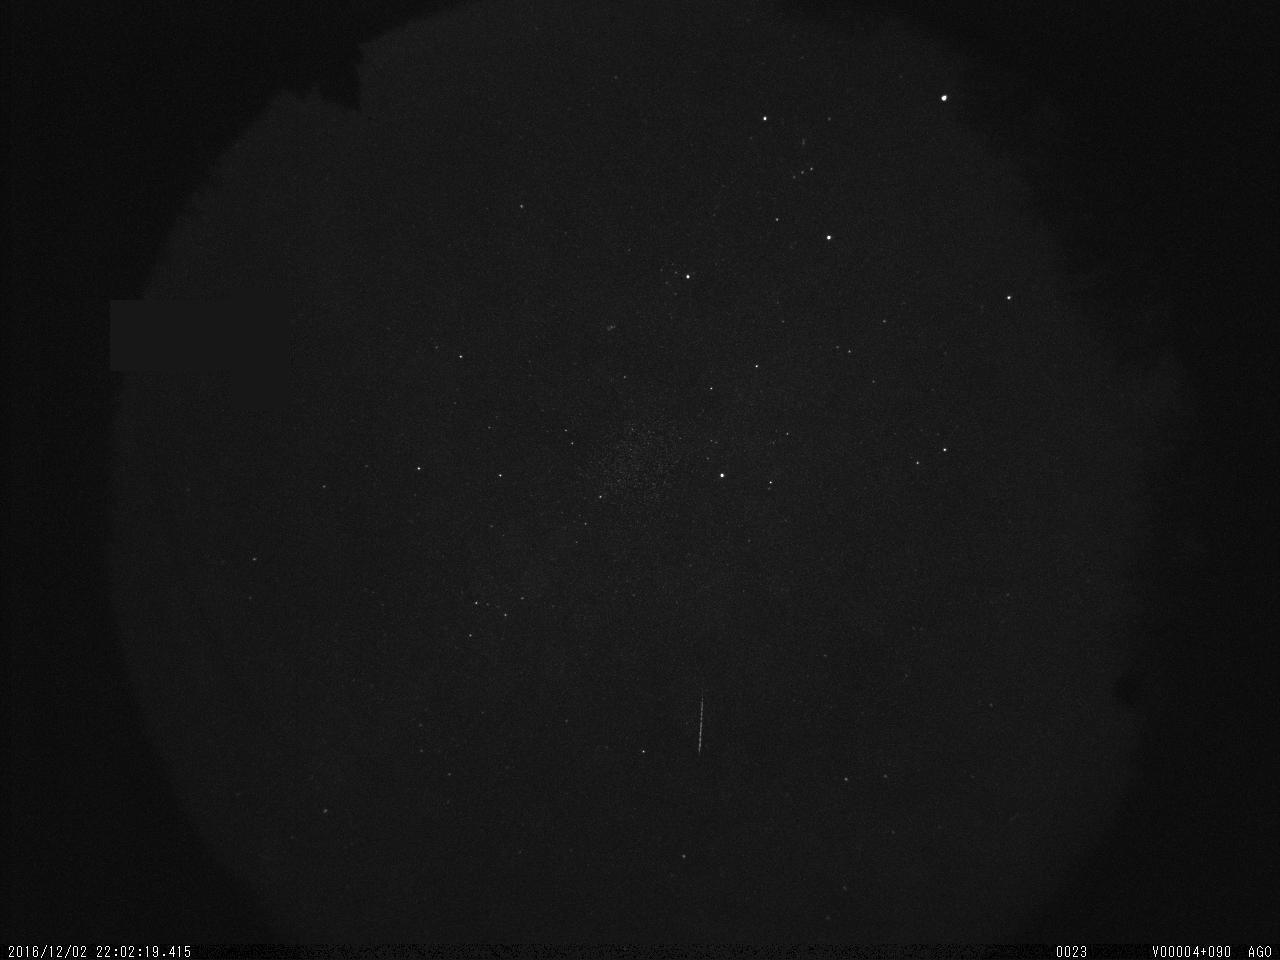meteor: (691, 683, 715, 767)
